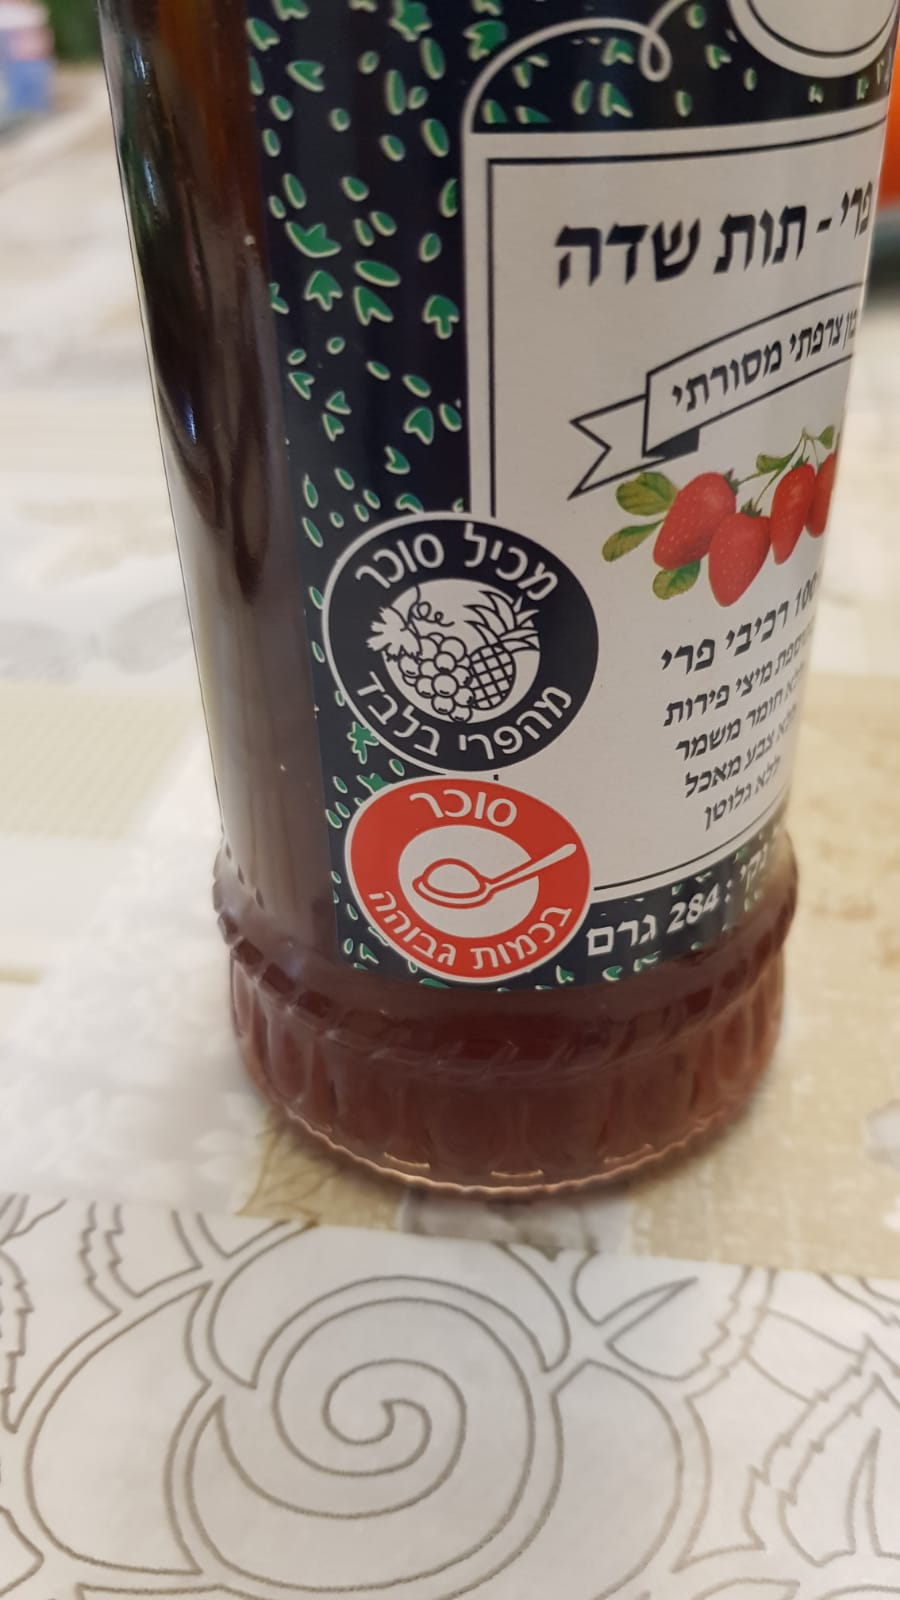sugar: (342, 776, 591, 985)
